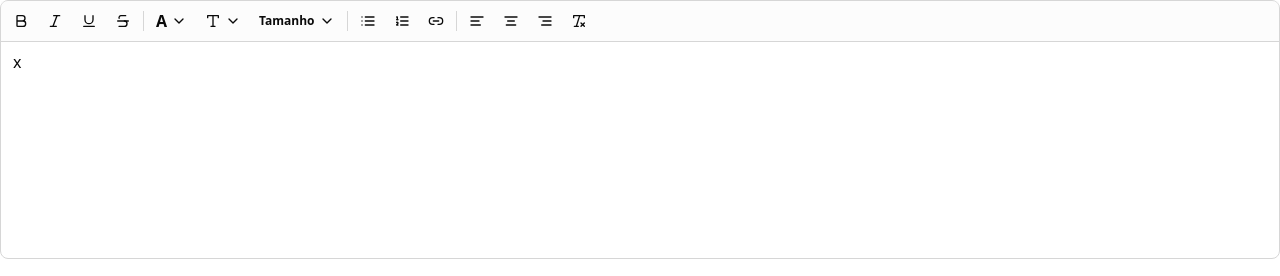
EditorTextoRico › o menu Tamanho abre e mostra as opções (menu próprio, não Radix aninhado)
Check: the text "Grande" is not shown
Click the button "Tamanho". click: {"x": 297, "y": 21}
box: [251,5,342,37]
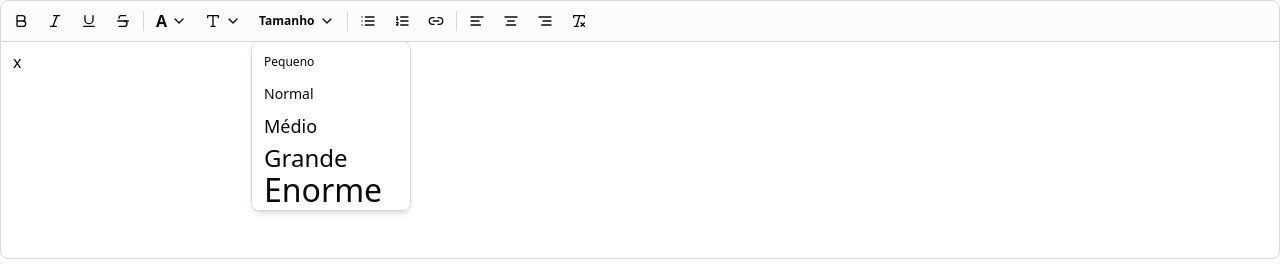
Check: the text "Grande" is shown, box [264,148,348,168]
Check: the text "Pequeno" is shown, box [264,52,314,72]
